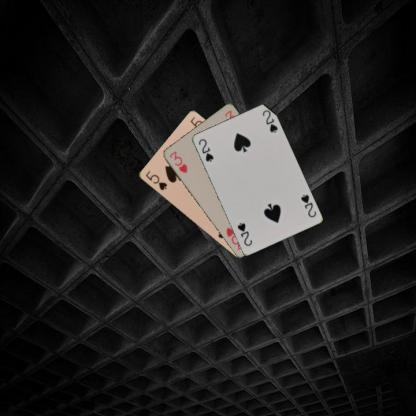2s: (298, 192, 317, 219), (196, 136, 214, 163)
3h: (166, 148, 188, 174)
5s: (143, 168, 168, 192)
